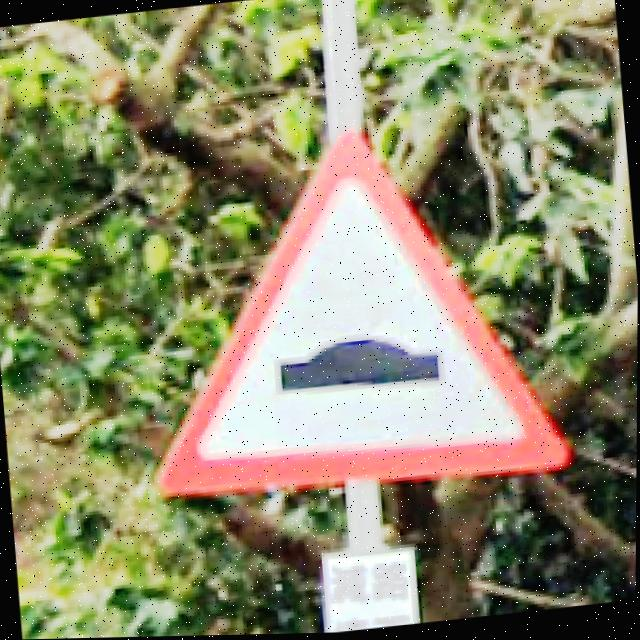hump: (157, 131, 569, 492)
